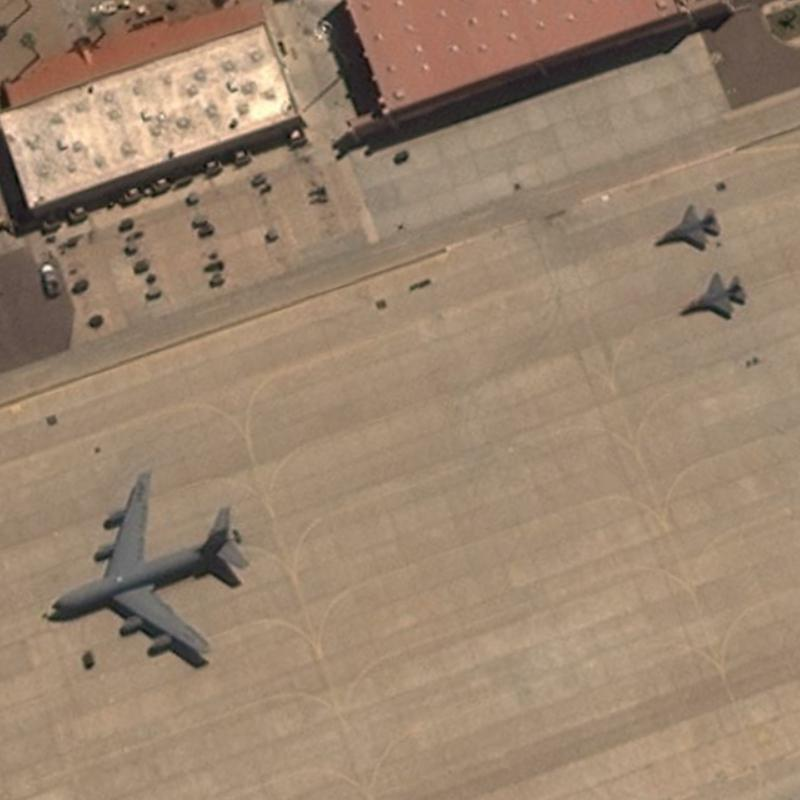A14: (30, 466, 259, 666)
A5: (648, 197, 725, 256), (674, 269, 751, 323)
